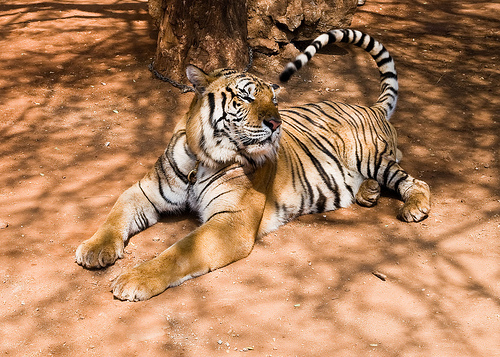Tigre: (102, 67, 443, 273)
